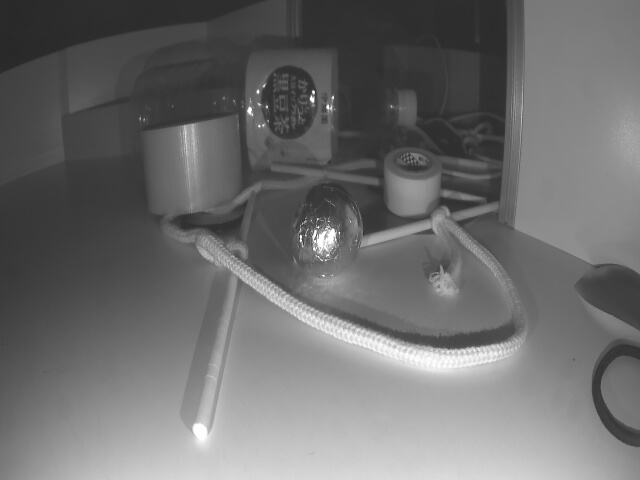Live: (290, 185, 362, 275)
Point: (62, 101, 159, 163)
